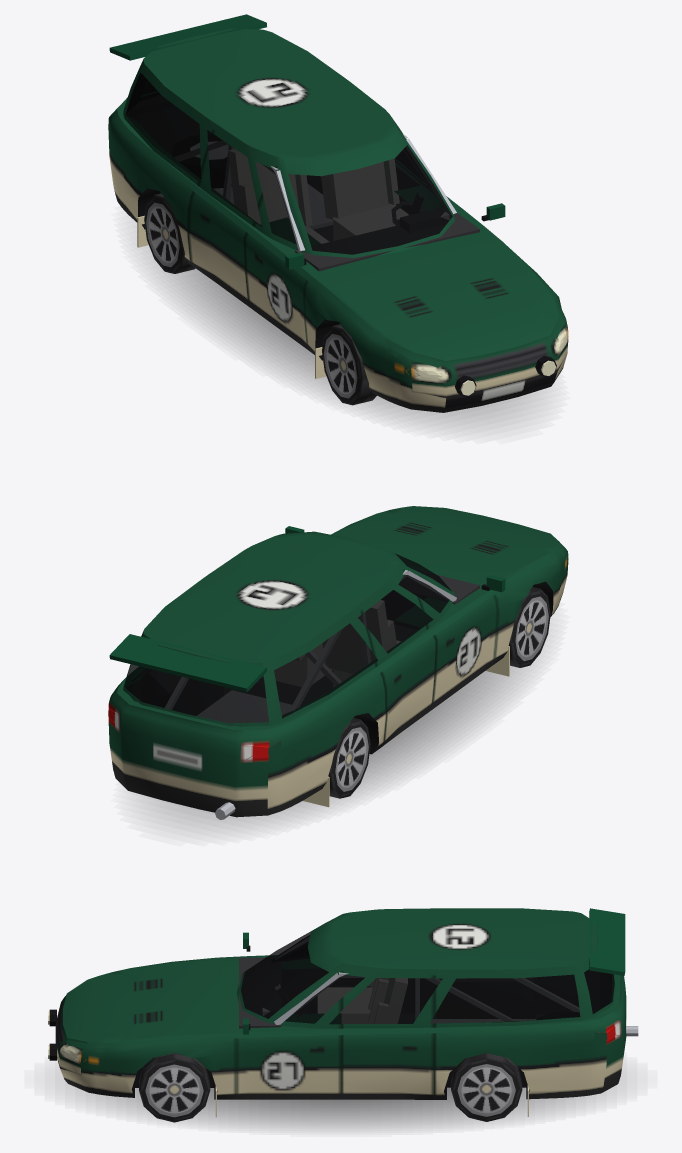
File: forja.glb
The picture shows the model from 3 angles, top to bottom: view 1: azimuth 30°, elevation 25°; view 2: azimuth 150°, elevation 25°; view 3: azimuth 270°, elevation 25°; orthographic projection. The views are drawn at different scales.
Visible parts, largest first — view 1: Carroceria, Interior, Capo_malha, Sombra, Porta_TD_malha, Porta_D_malha, Roda_DD, Tampa_malha, Roda_TD; view 2: Carroceria, Tampa_malha, Interior, Capo_malha, Sombra, Porta_TD_malha, Porta_D_malha, Roda_TD, Roda_DD; view 3: Carroceria, Interior, Porta_TE_malha, Capo_malha, Sombra, Porta_E_malha, Roda_DE, Roda_TE, Tampa_malha.
Boxes of the visible parts, x1=… form: Carroceria: x1=108, y1=28, x2=568, y2=412; Interior: x1=126, y1=95, x2=479, y2=271; Capo_malha: x1=325, y1=239, x2=564, y2=367; Sombra: x1=144, y1=246, x2=540, y2=427; Porta_TD_malha: x1=188, y1=124, x2=279, y2=298; Porta_D_malha: x1=245, y1=163, x2=307, y2=342; Roda_DD: x1=322, y1=324, x2=376, y2=405; Tampa_malha: x1=109, y1=14, x2=266, y2=113; Roda_TD: x1=144, y1=193, x2=195, y2=273; Carroceria: x1=108, y1=508, x2=568, y2=819; Tampa_malha: x1=109, y1=634, x2=269, y2=798; Interior: x1=126, y1=570, x2=479, y2=722; Capo_malha: x1=336, y1=506, x2=564, y2=580; Sombra: x1=140, y1=659, x2=535, y2=830; Porta_TD_malha: x1=359, y1=564, x2=436, y2=740; Porta_D_malha: x1=401, y1=566, x2=505, y2=701; Roda_TD: x1=328, y1=717, x2=370, y2=798; Roda_DD: x1=508, y1=587, x2=550, y2=667; Carroceria: x1=48, y1=908, x2=638, y2=1117; Interior: x1=142, y1=937, x2=611, y2=1067; Porta_TE_malha: x1=341, y1=964, x2=434, y2=1094; Capo_malha: x1=67, y1=959, x2=222, y2=1048; Sombra: x1=65, y1=1081, x2=616, y2=1129; Porta_E_malha: x1=236, y1=968, x2=341, y2=1093; Roda_DE: x1=139, y1=1053, x2=210, y2=1122; Roda_TE: x1=451, y1=1053, x2=522, y2=1121; Tampa_malha: x1=582, y1=908, x2=626, y2=1067.
Bounding box in the file's own units: 2.36 × 1.35 × 5.49.
14 materials, 5 textured.
